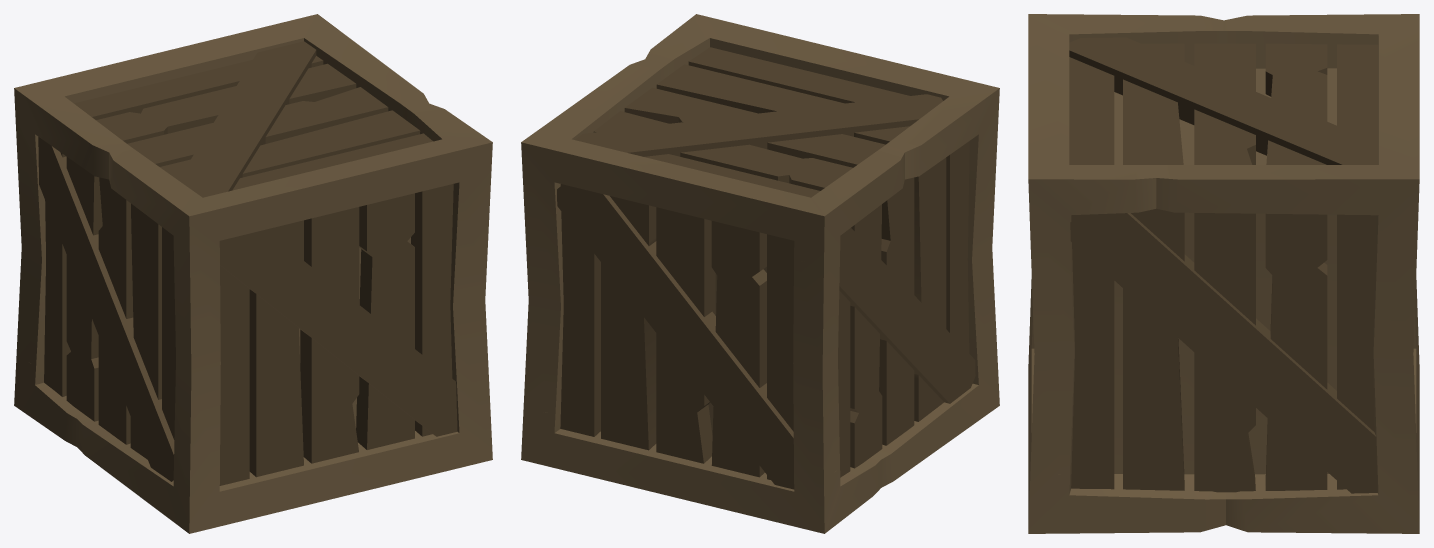
Rendered from Crate.glb.
The picture shows the model from 3 angles, left to right: view 1: azimuth 30°, elevation 25°; view 2: azimuth 150°, elevation 25°; view 3: azimuth 270°, elevation 25°; orthographic projection. The views are drawn at different scales.
Parts seen in each view (by area): view 1: Crate; view 2: Crate; view 3: Crate.
Boxes of the visible parts, x1=… form: Crate: x1=14, y1=14, x2=492, y2=533; Crate: x1=521, y1=14, x2=999, y2=533; Crate: x1=1028, y1=14, x2=1419, y2=533.
Bounding box in the file's own units: 0.8239 × 0.824 × 0.824.
